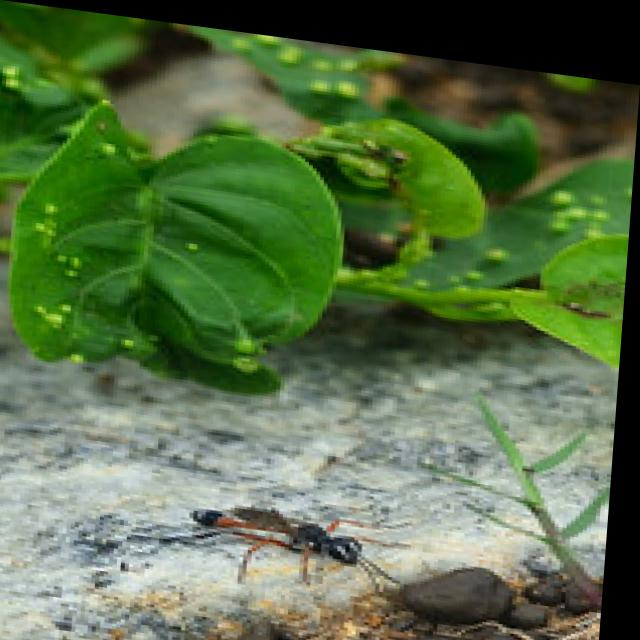Guepe: (159, 464, 425, 601)
